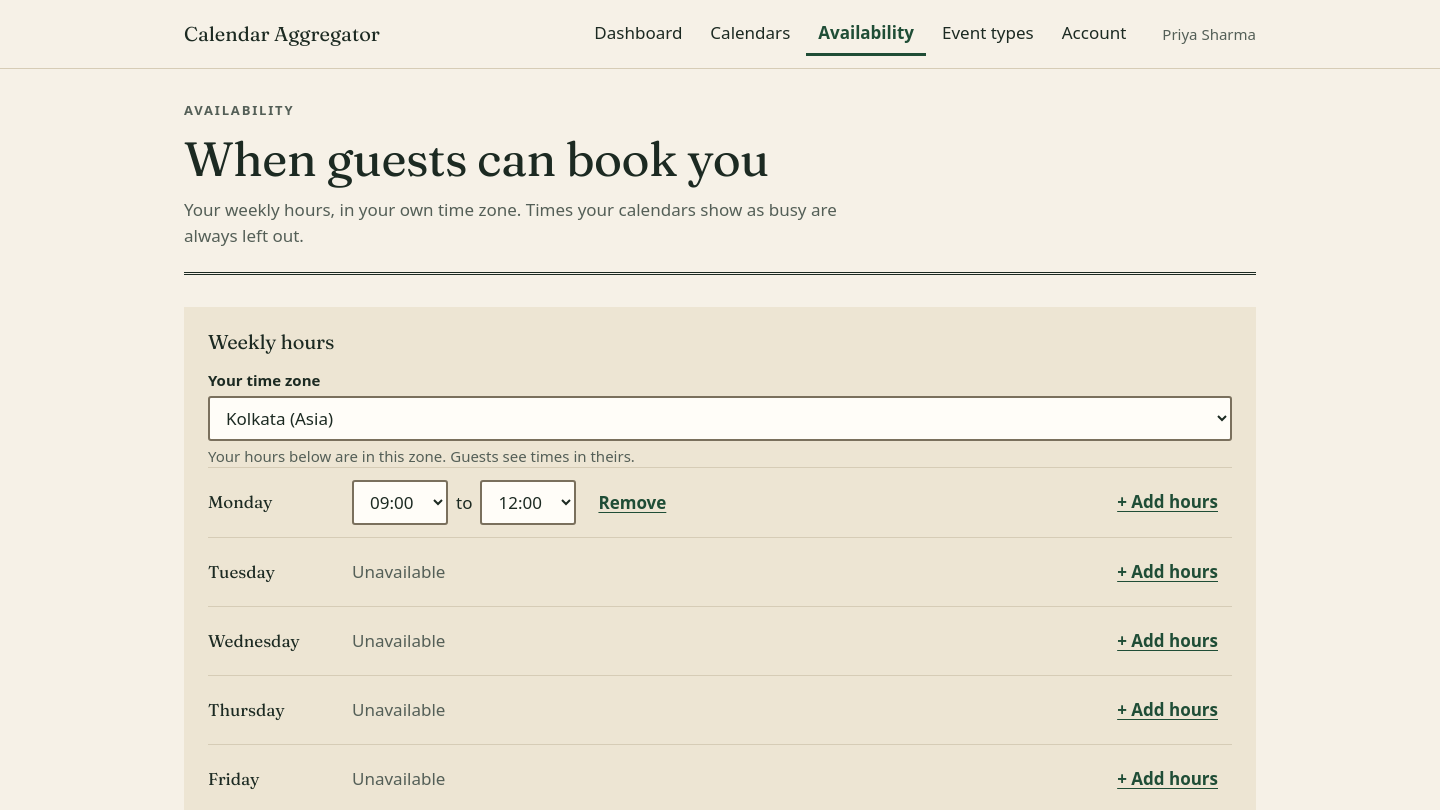
Test: the availability page › removes hours, leaving the day unavailable
Click the button with aria-label "Remove Monday 09:00 to 12:00": [632, 503] box [584, 481, 680, 525]
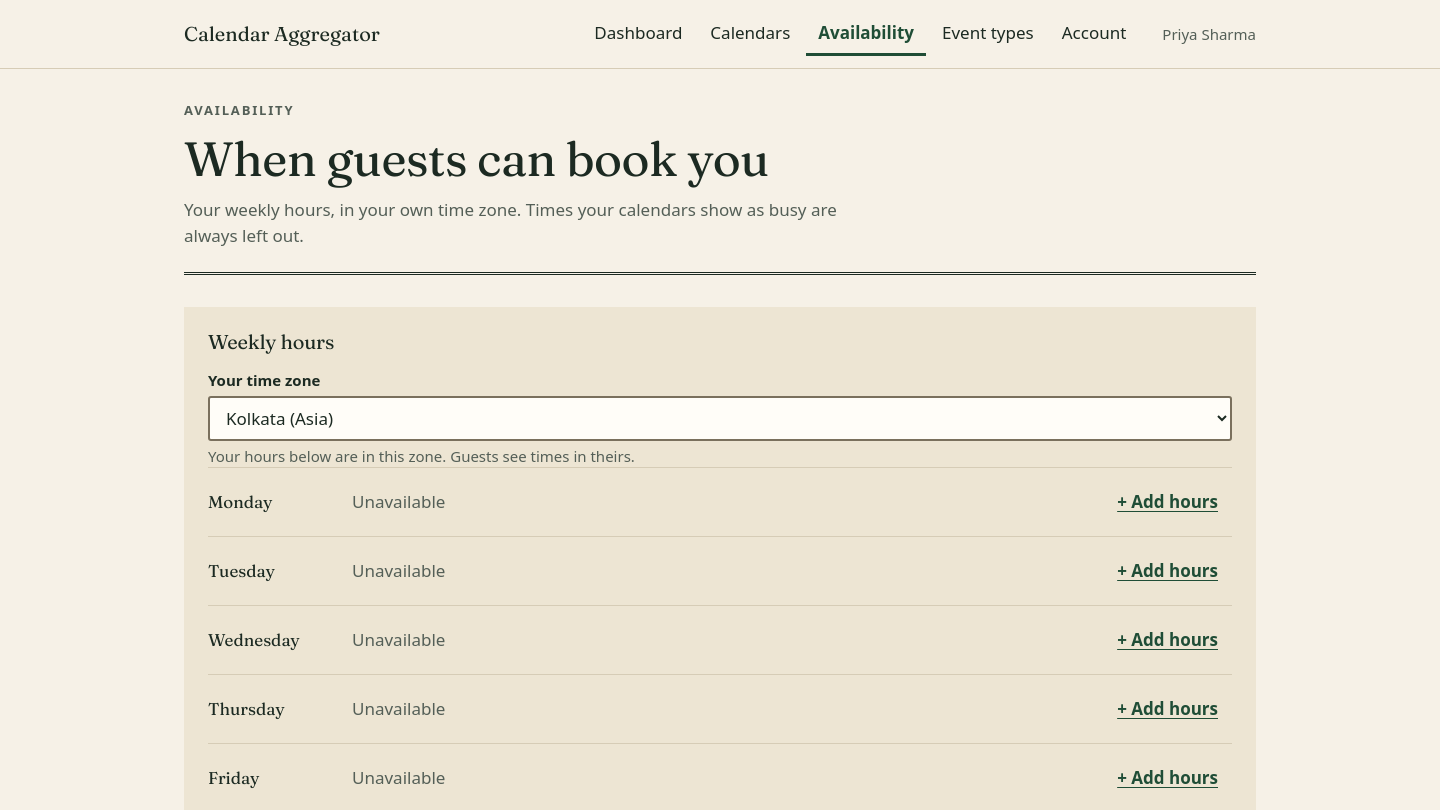
Check: the text "Unavailable" is shown 7 times
